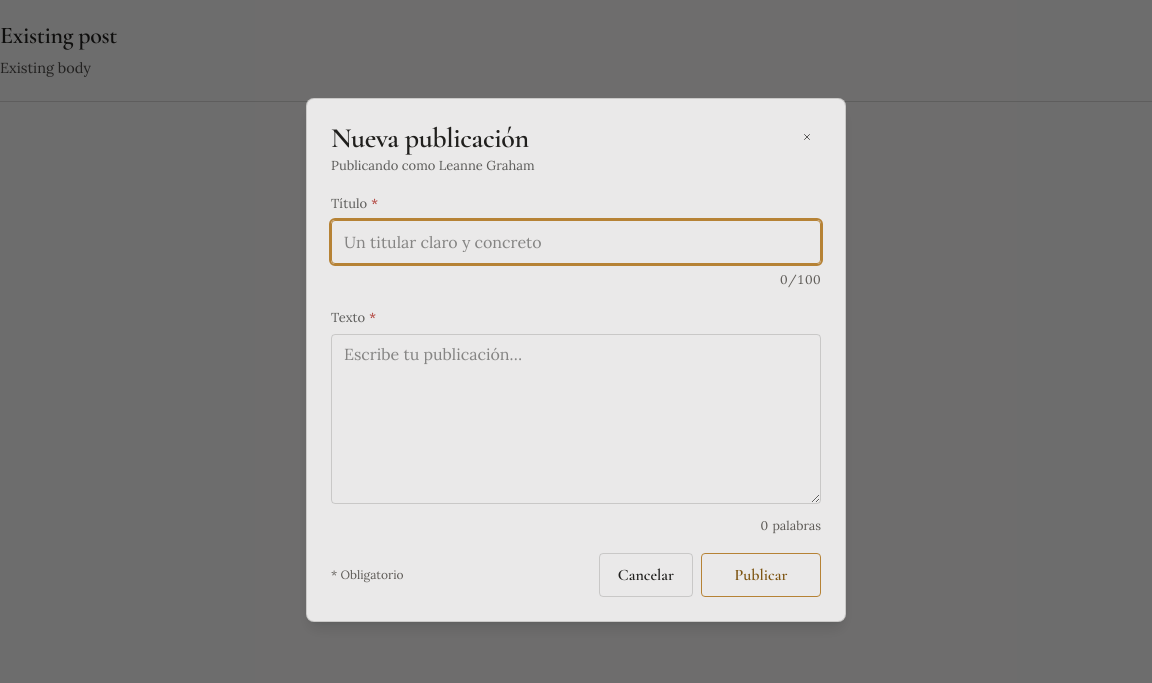
it: PostForm › R4: if sending fails, shows an error and "Reintentar" sends the same post again
Type "New title" into the field labelled "Título".
click(576, 242); type("New title")  # box [331,220,821,264]
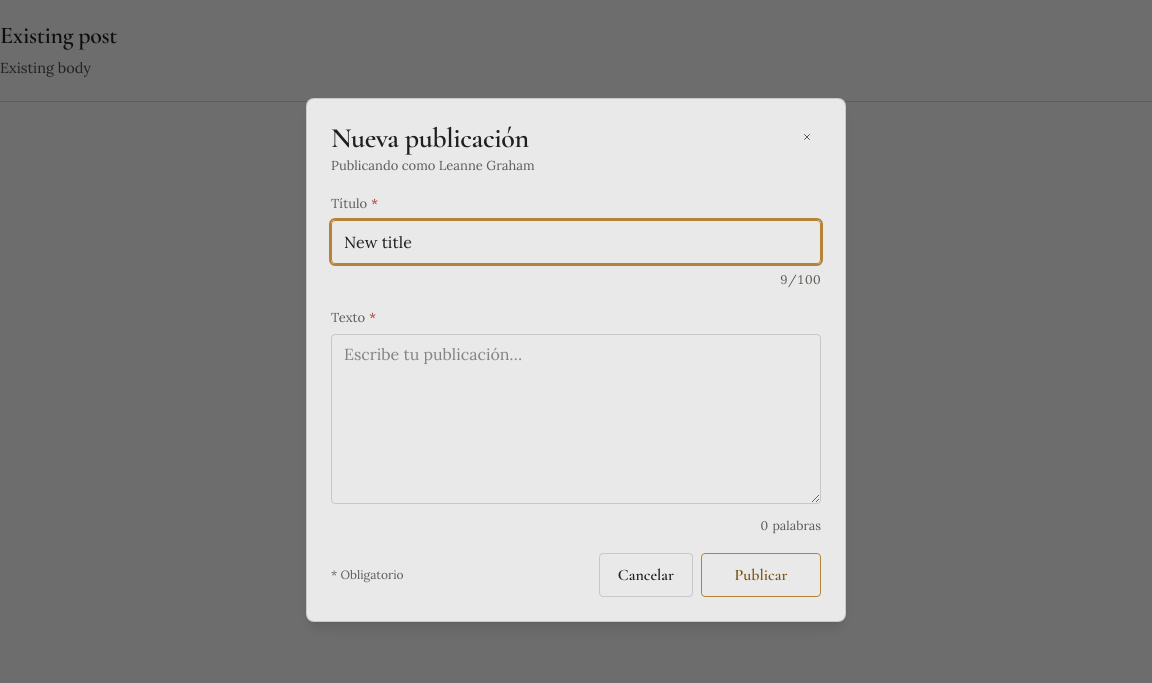
Type "New body" into the text box labelled "Texto".
click(576, 419); type("New body")  # box [331,334,821,504]
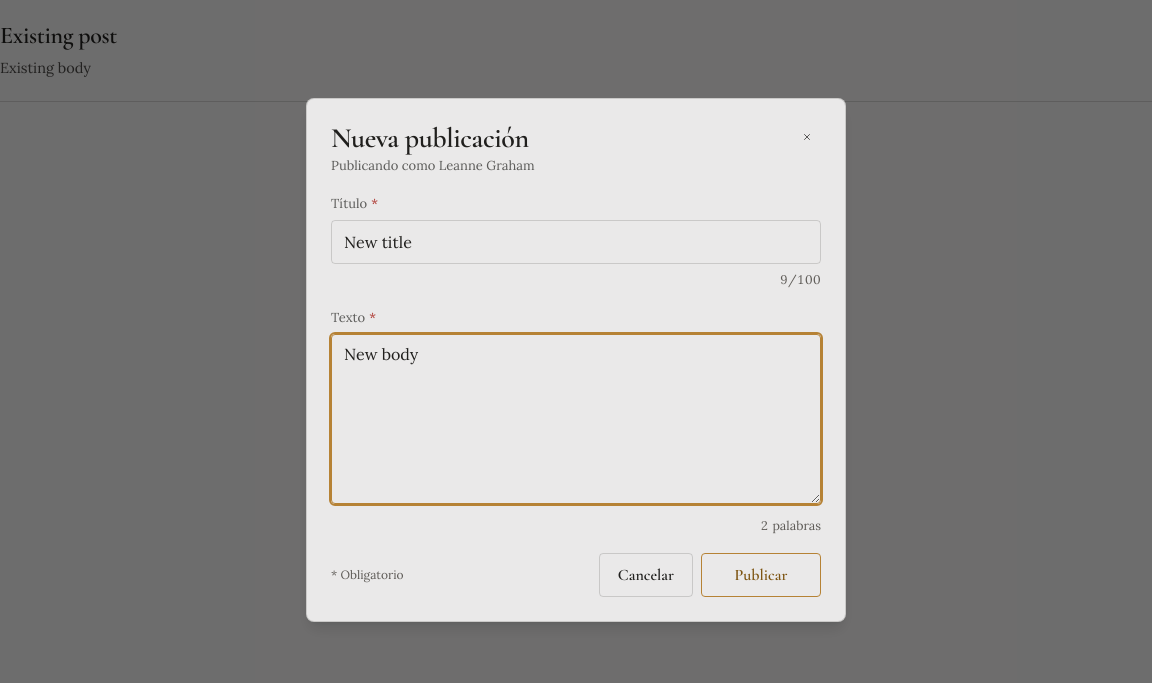
Click the button "Publicar".
click(761, 575)  # box [701,553,821,597]
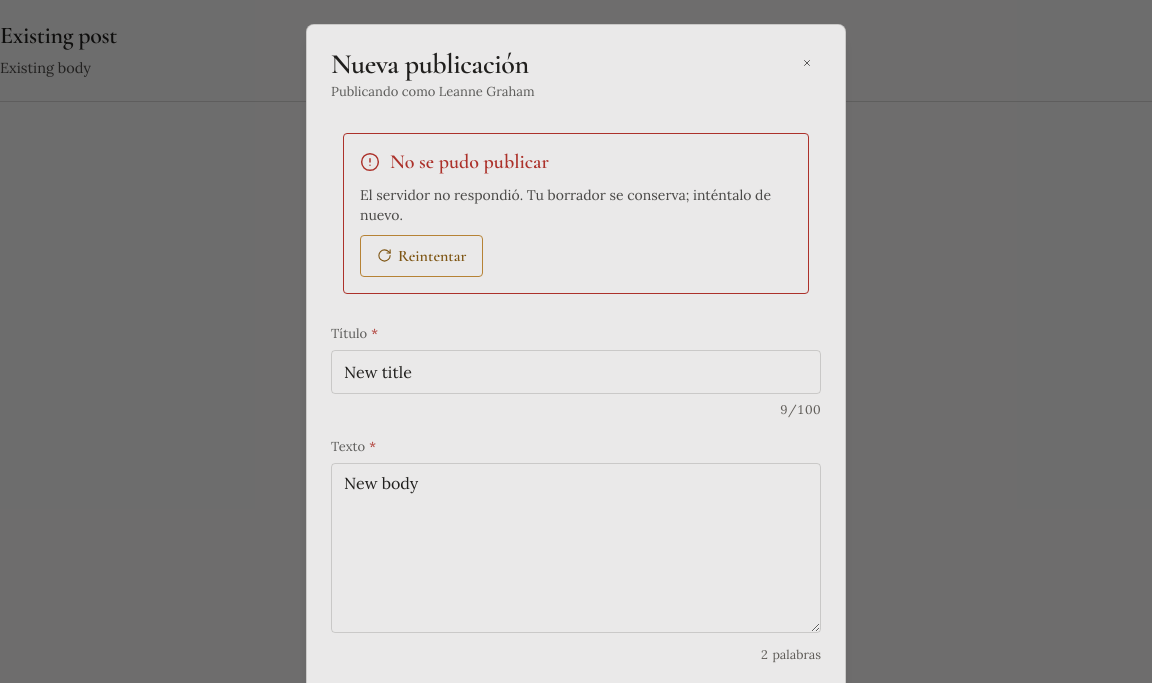
Now the text "No se pudo publicar" is shown, box [390,150,549,174]
Click the button "Reintentar".
click(422, 256)  # box [360,234,484,276]
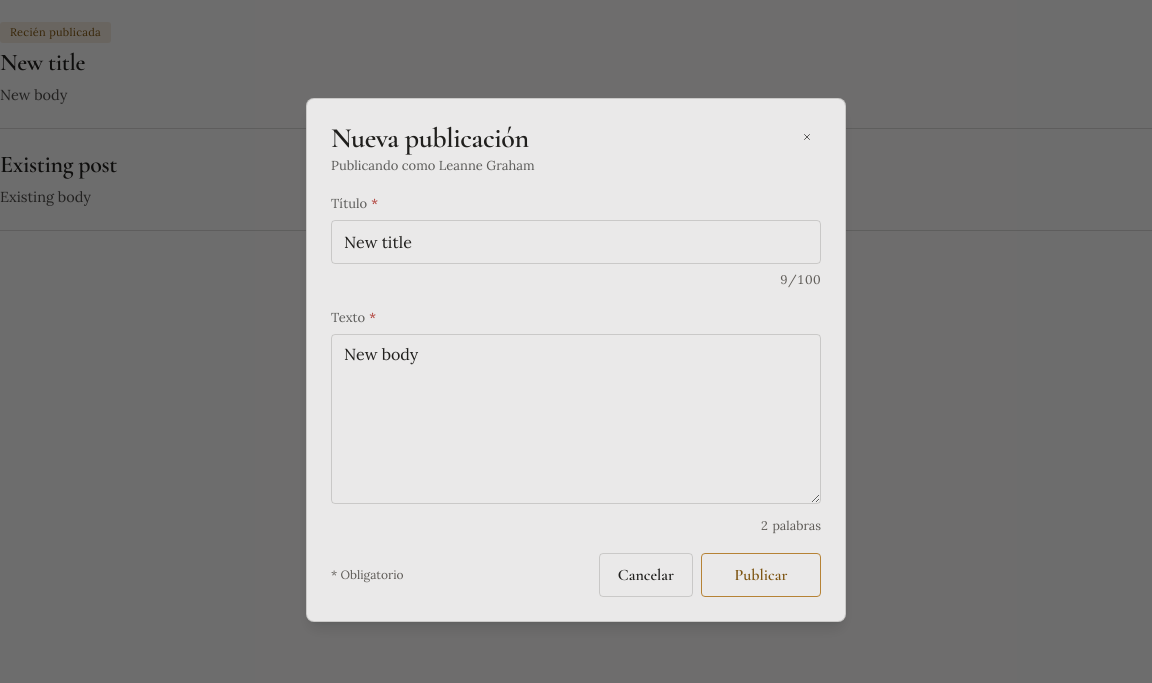
Now the heading "New title" is shown, box [0,48,85,77]
